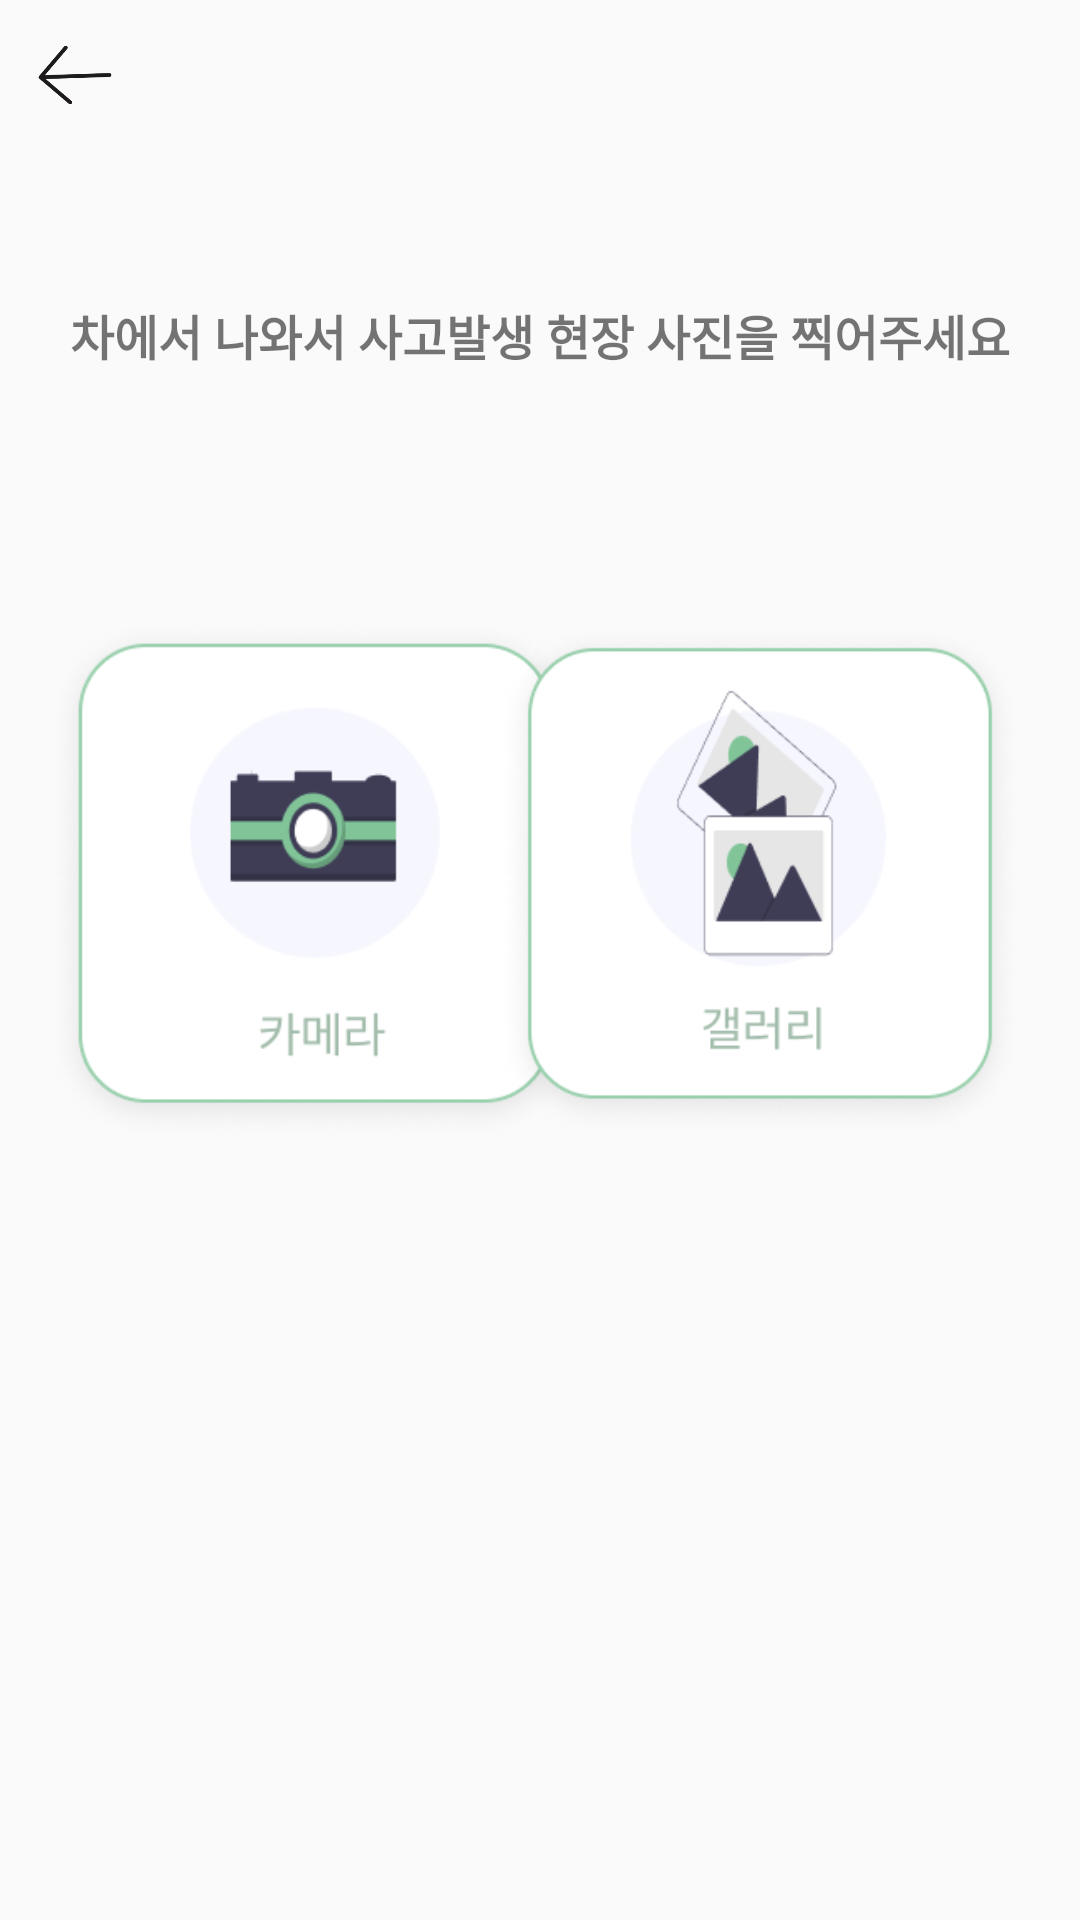

Named icons in this screenshot (1080px x 1920px) and their centers, point (x, y):
back arrow: point (75, 75)
